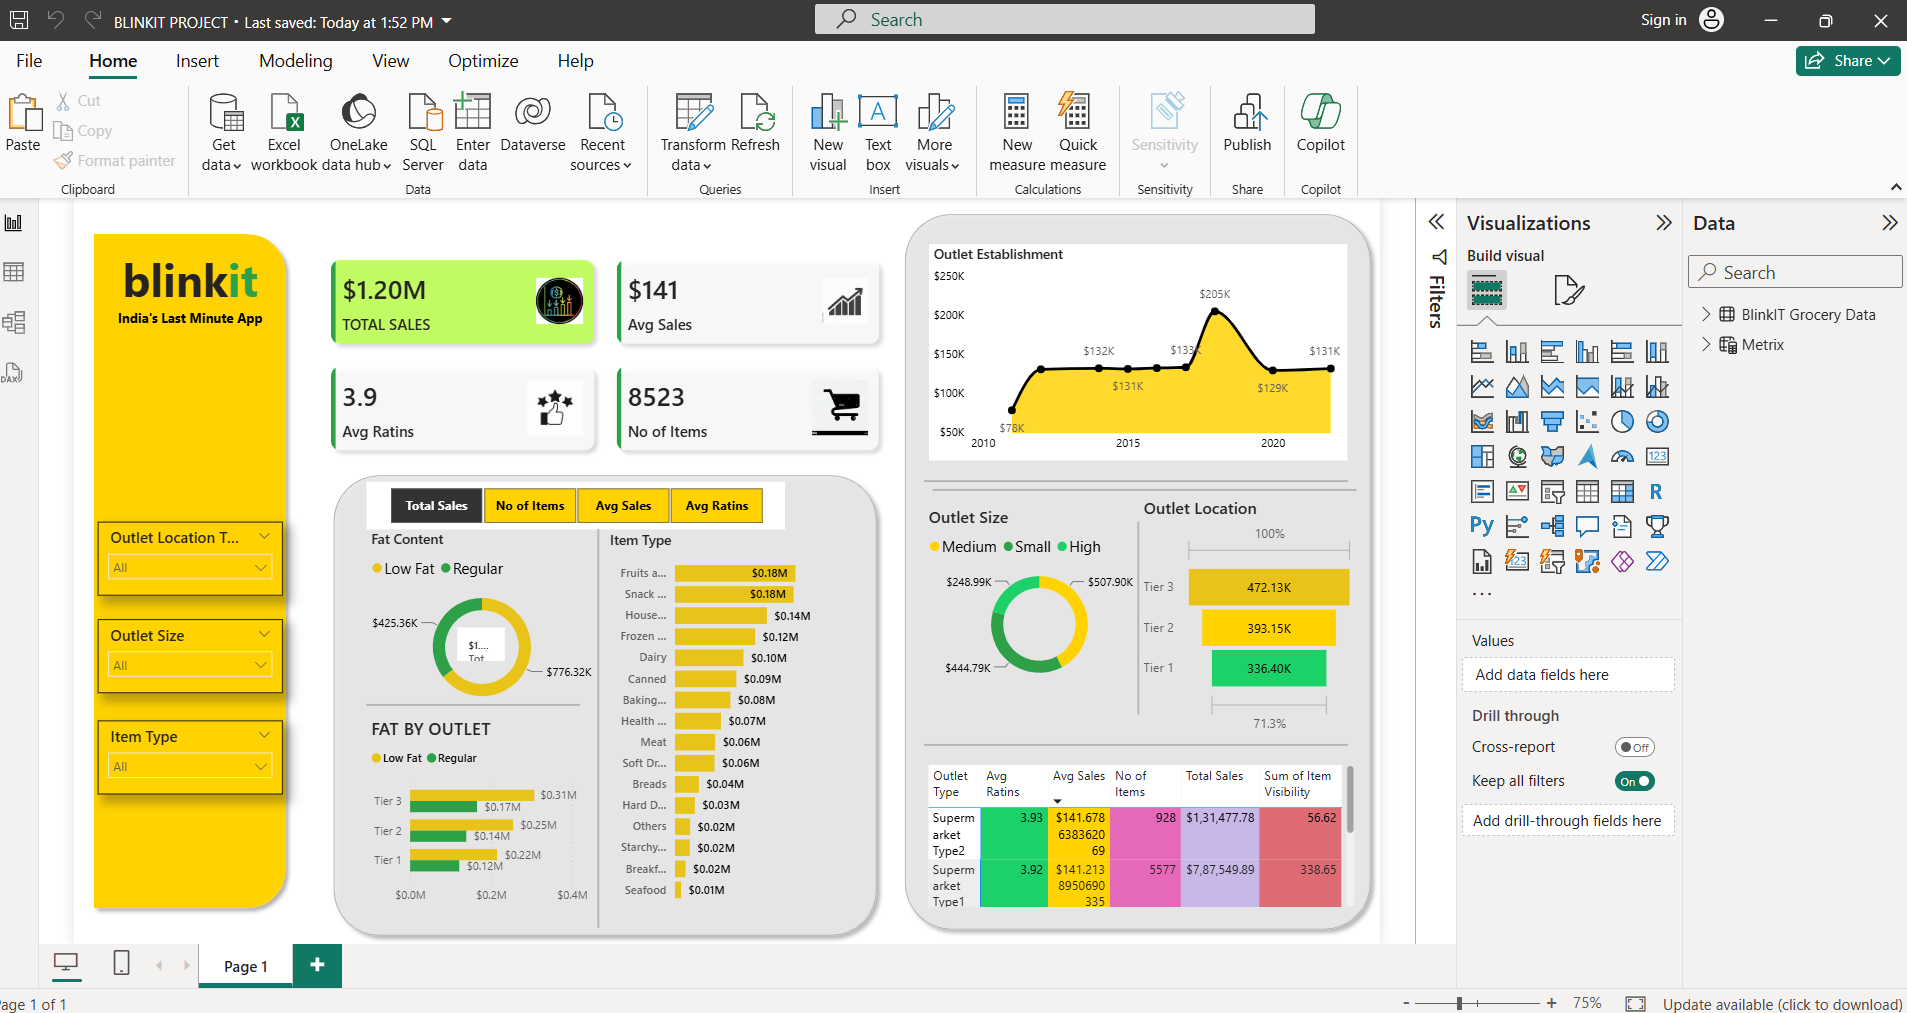

What the dashboard file says about the page in this screenshot:
{"tool":"powerbi","page":{"name":"Page 1","canvas":[1400,800],"ordinal":0},"visuals":[{"type":"shape","box":[12.1,29.5,223.9,741.3],"z":0},{"type":"textbox","box":[32.2,49.6,185,100.5],"z":1},{"type":"cardVisual","fields":{"Data":["BlinkIT Grocery Data.Total Sales","BlinkIT Grocery Data.Avg Sales","BlinkIT Grocery Data.Avg Ratins","BlinkIT Grocery Data.No of Items"]},"box":[258.7,49.6,623.3,238.6],"z":2},{"type":"shape","box":[269.4,288.2,600.5,512.1],"z":3},{"type":"donutChart","title":"Fat Content","fields":{"Category":["BlinkIT Grocery Data.Item Fat Content"],"Y":["BlinkIT Grocery Data.Total Sales"]},"box":[313.7,355.2,248,201.1],"z":4},{"type":"slicer","fields":{"Values":["Metrix.Metrix"]},"box":[313.7,304.3,449.1,50.9],"z":5},{"type":"cardVisual","fields":{"Data":["BlinkIT Grocery Data.Total Sales"]},"box":[406.2,455.8,61.7,46.9],"z":6},{"type":"clusteredBarChart","title":"FAT BY OUTLET","fields":{"Y":["BlinkIT Grocery Data.Total Sales"],"Category":["BlinkIT Grocery Data.Outlet Location Type"],"Series":["BlinkIT Grocery Data.Item Fat Content"]},"box":[313.7,556.3,248,209.1],"z":7},{"type":"shape","box":[313.7,526.8,229.2,33.5],"z":8},{"type":"shape","box":[475.9,355.2,172.9,427.6],"z":9},{"type":"barChart","title":"Item Type","fields":{"Category":["BlinkIT Grocery Data.Item Type"],"Y":["BlinkIT Grocery Data.Total Sales"]},"box":[569.7,356.6,249.3,408.8],"z":10},{"type":"shape","box":[882,8,517.4,785.5],"z":11},{"type":"lineChart","title":"Outlet Establishment","fields":{"Y":["BlinkIT Grocery Data.Total Sales"],"Category":["BlinkIT Grocery Data.Outlet Establishment Year"]},"box":[916.9,49.6,449.1,231.9],"z":12},{"type":"shape","box":[911.5,286.9,454.4,33.5],"z":13},{"type":"donutChart","title":"Outlet Size","fields":{"Y":["BlinkIT Grocery Data.Total Sales"],"Category":["BlinkIT Grocery Data.Outlet Size"]},"box":[911.5,329.8,248,201.1],"z":14},{"type":"shape","box":[1055,347.2,172.9,206.4],"z":15},{"type":"funnel","title":" Outlet Location ","fields":{"Category":["BlinkIT Grocery Data.Outlet Location Type"],"Y":["Sum(BlinkIT Grocery Data.Sales)"]},"box":[1142.1,320.4,235.9,258.7],"z":16},{"type":"shape","box":[911.5,569.7,454.4,33.5],"z":17},{"type":"pivotTable","fields":{"Values":["BlinkIT Grocery Data.Avg Ratins","BlinkIT Grocery Data.Avg Sales","BlinkIT Grocery Data.No of Items","BlinkIT Grocery Data.Total Sales","Sum(BlinkIT Grocery Data.Item Visibility)"],"Rows":["BlinkIT Grocery Data.Outlet Type"]},"box":[911.5,603.2,466.5,162.2],"z":18},{"type":"slicer","fields":{"Values":["BlinkIT Grocery Data.Outlet Location Type"]},"box":[25.5,347.2,198.4,79.1],"z":19},{"type":"shape","box":[921.5,296.9,454.4,33.5],"z":20},{"type":"slicer","fields":{"Values":["BlinkIT Grocery Data.Outlet Size"]},"box":[25.5,451.7,198.4,79.1],"z":21},{"type":"slicer","fields":{"Values":["BlinkIT Grocery Data.Item Type"]},"box":[25.5,560.3,198.4,79.1],"z":22}]}

Visuals, with their boxes on the page's 1400x800 design canvas (x1, y1, x2, y2). These are canvas units, not pixel positions in the 1907x1013 screenshot, which may show the page scaled, cropped or inside an application window:
shape: BBox(12, 30, 236, 771)
textbox: BBox(32, 50, 217, 150)
cardVisual - BlinkIT Grocery Data.Total Sales x BlinkIT Grocery Data.Avg Sales: BBox(259, 50, 882, 288)
shape: BBox(269, 288, 870, 800)
"Fat Content" donutChart: BBox(314, 355, 562, 556)
slicer - Metrix.Metrix: BBox(314, 304, 763, 355)
cardVisual - BlinkIT Grocery Data.Total Sales: BBox(406, 456, 468, 503)
"FAT BY OUTLET" clusteredBarChart: BBox(314, 556, 562, 765)
shape: BBox(314, 527, 543, 560)
shape: BBox(476, 355, 649, 783)
"Item Type" barChart: BBox(570, 357, 819, 765)
shape: BBox(882, 8, 1399, 794)
"Outlet Establishment" lineChart: BBox(917, 50, 1366, 282)
shape: BBox(912, 287, 1366, 320)
"Outlet Size" donutChart: BBox(912, 330, 1160, 531)
shape: BBox(1055, 347, 1228, 554)
" Outlet Location " funnel: BBox(1142, 320, 1378, 579)
shape: BBox(912, 570, 1366, 603)
pivotTable - BlinkIT Grocery Data.Avg Ratins x BlinkIT Grocery Data.Avg Sales: BBox(912, 603, 1378, 765)
slicer - BlinkIT Grocery Data.Outlet Location Type: BBox(26, 347, 224, 426)
shape: BBox(922, 297, 1376, 330)
slicer - BlinkIT Grocery Data.Outlet Size: BBox(26, 452, 224, 531)
slicer - BlinkIT Grocery Data.Item Type: BBox(26, 560, 224, 639)
